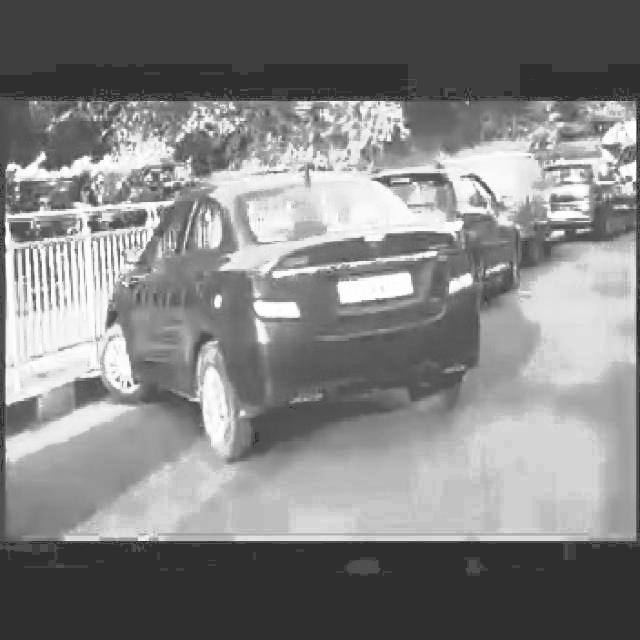Car: (109, 156, 423, 440), (385, 155, 532, 290), (537, 158, 637, 252)
